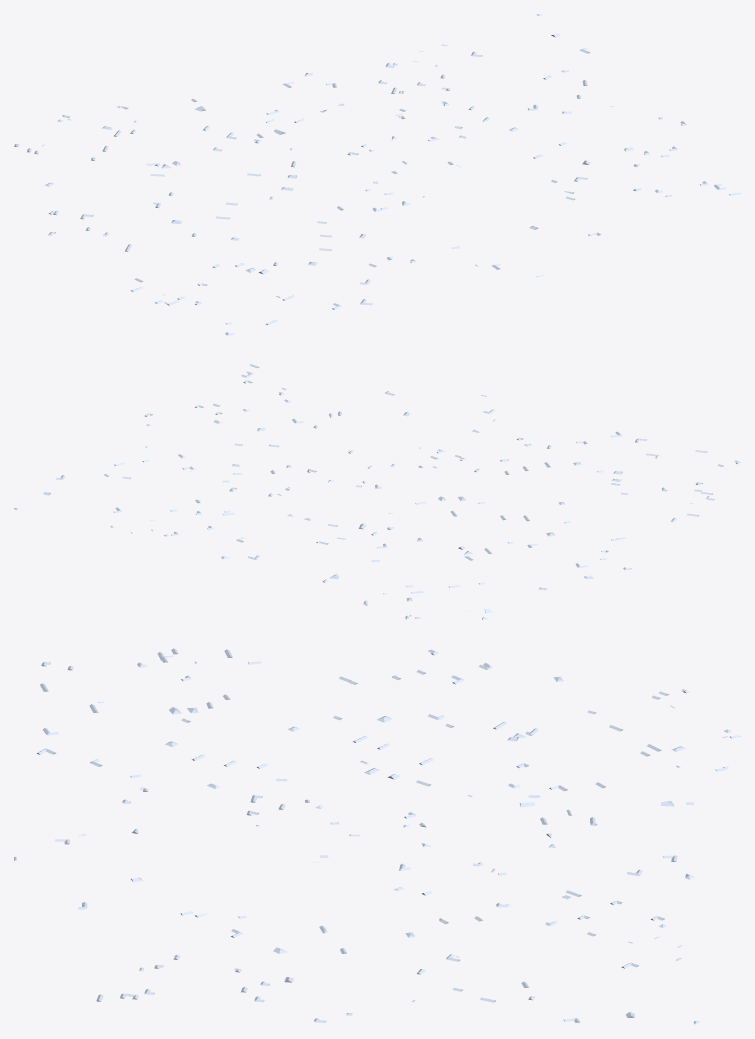
File: FaitageArdoise_5.obj
3 views of the same model, one above another, from view 1: azimuth 30°, elevation 25°; view 2: azimuth 150°, elevation 25°; view 3: azimuth 270°, elevation 25° (orthographic). The views are drawn at different scales.
Visible parts, largest first — view 1: FaitageArdoise_5; view 2: FaitageArdoise_5; view 3: FaitageArdoise_5.
Boxes of the visible parts, x1,y1,x2,y2 form: FaitageArdoise_5: [14, 14, 740, 335]; FaitageArdoise_5: [14, 364, 740, 619]; FaitageArdoise_5: [14, 648, 740, 1024].
Bounding box in the file's own units: 2479 × 74.72 × 2036.
